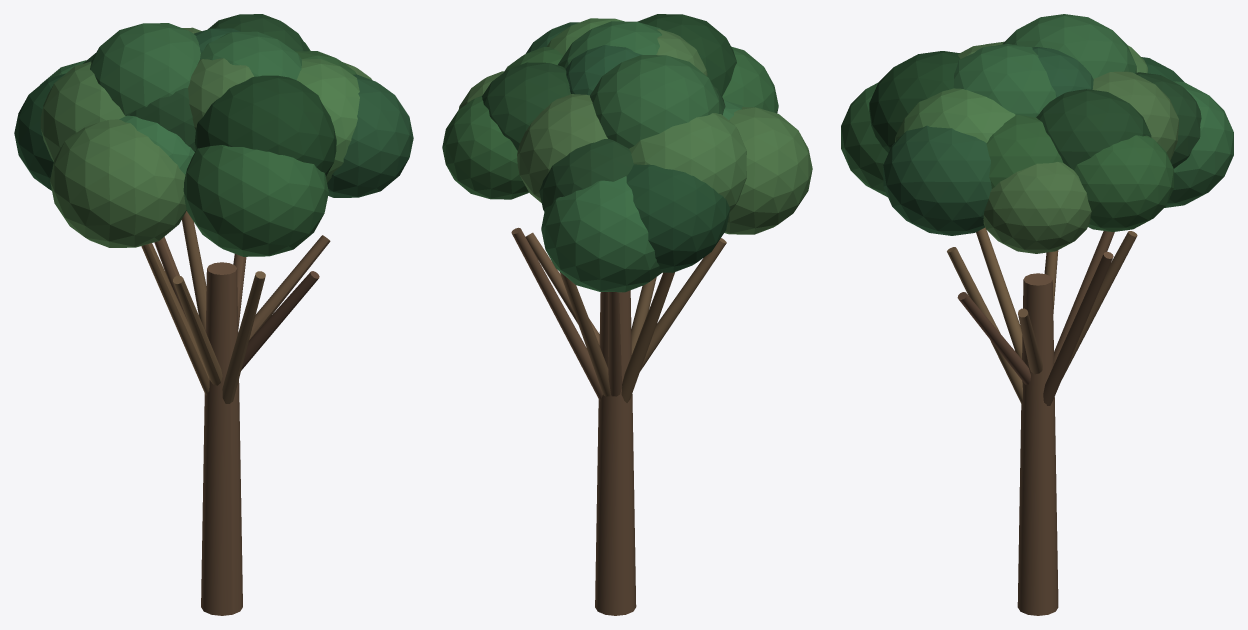
Rendered from broadleaf-round.near.glb.
3 views of the same model, side by side, from view 1: azimuth 30°, elevation 25°; view 2: azimuth 150°, elevation 25°; view 3: azimuth 270°, elevation 25° (orthographic). The views are drawn at different scales.
Visible parts, largest first — view 1: foliage, wood; view 2: foliage, wood; view 3: foliage, wood.
Boxes of the visible parts, bbox=[...] form: foliage: bbox=[14, 14, 413, 256]; wood: bbox=[141, 211, 330, 615]; foliage: bbox=[442, 14, 812, 292]; wood: bbox=[511, 227, 726, 615]; foliage: bbox=[841, 14, 1233, 253]; wood: bbox=[947, 227, 1137, 615].
Bounding box in the file's own units: 6.53 × 11 × 6.98.
